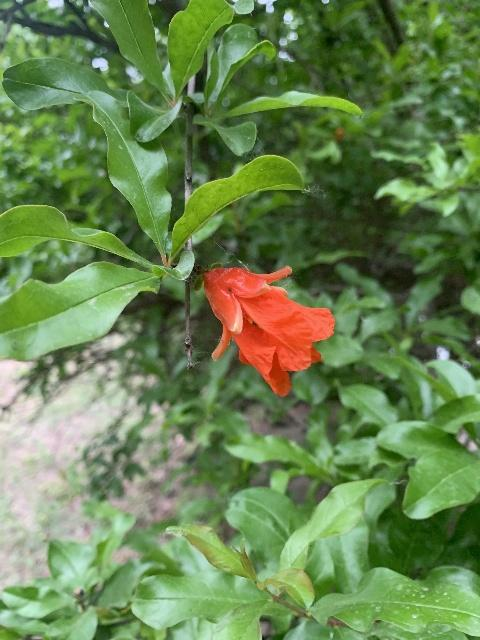flower: (202, 264, 335, 396)
